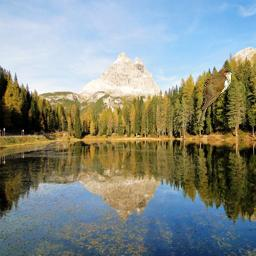Cuckoo: (197, 67, 236, 132)
